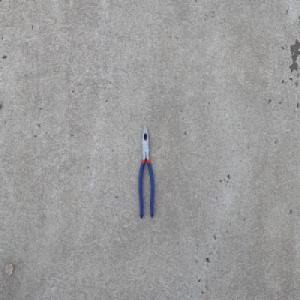Pliers: (137, 123, 154, 220)
